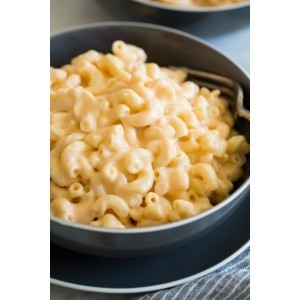cheese_brain food: (74, 88, 193, 203)
